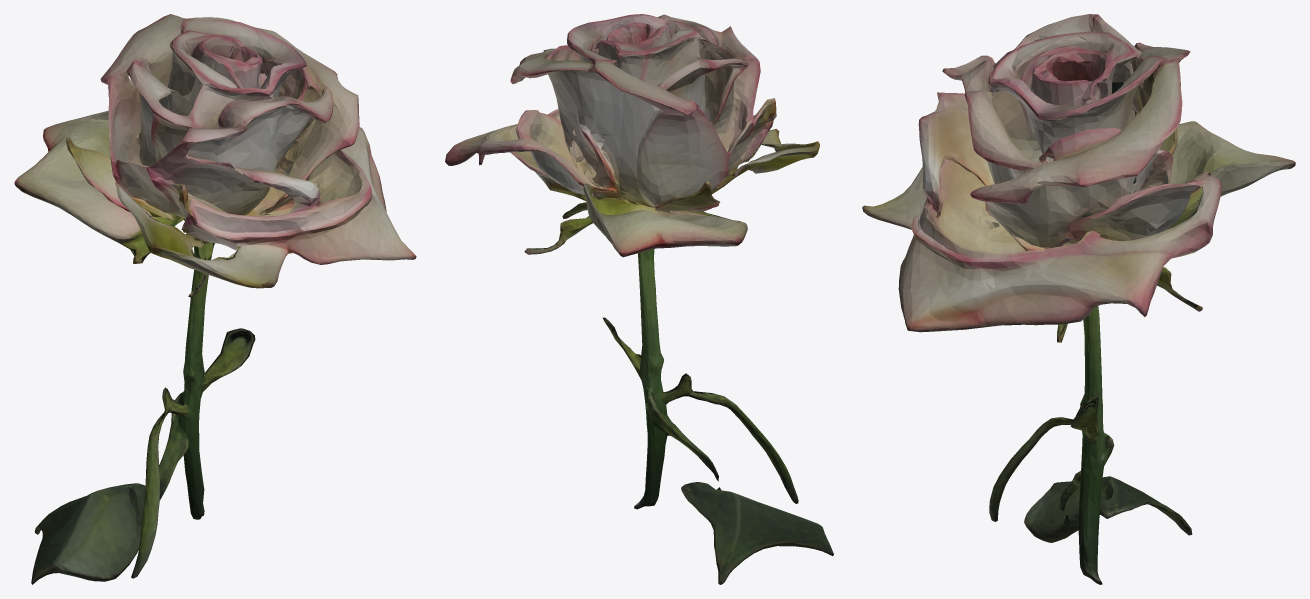
3 views of the same model, side by side, from view 1: azimuth 30°, elevation 25°; view 2: azimuth 150°, elevation 25°; view 3: azimuth 270°, elevation 25° (orthographic). The views are drawn at different scales.
Parts seen in each view (by area): view 1: world; view 2: world; view 3: world.
Boxes of the visible parts, box(x1,y1,x2,y2) form: world: box(14, 14, 416, 584); world: box(445, 14, 833, 584); world: box(862, 14, 1295, 584).
Size of the model in its own units: 0.7296 by 0.9554 by 0.6738.
1 material, 1 textured.
